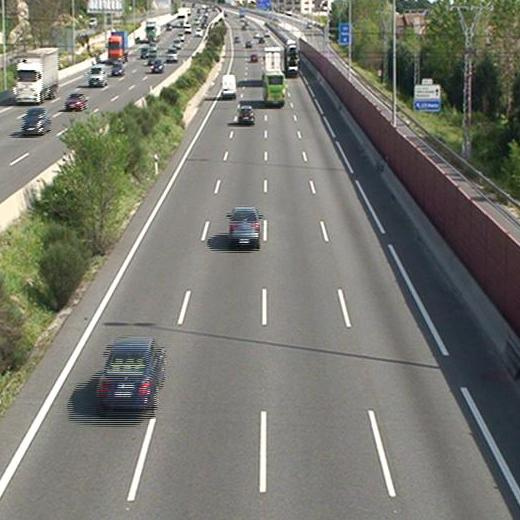bus: (263, 71, 284, 108)
car: (98, 339, 165, 410), (228, 209, 261, 246), (237, 107, 255, 124)
truck: (285, 39, 300, 74), (263, 46, 281, 72)
van: (221, 74, 237, 96)
